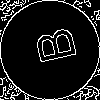B: (25, 25, 77, 68)
